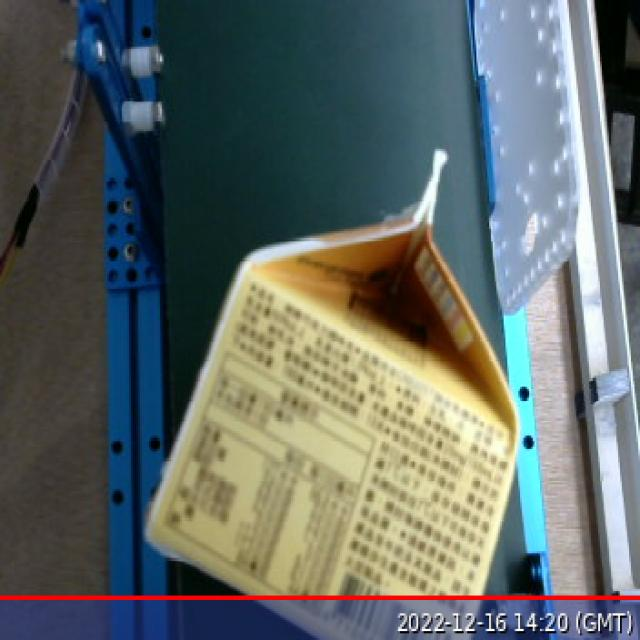non_white_jug: (98, 109, 551, 640)
